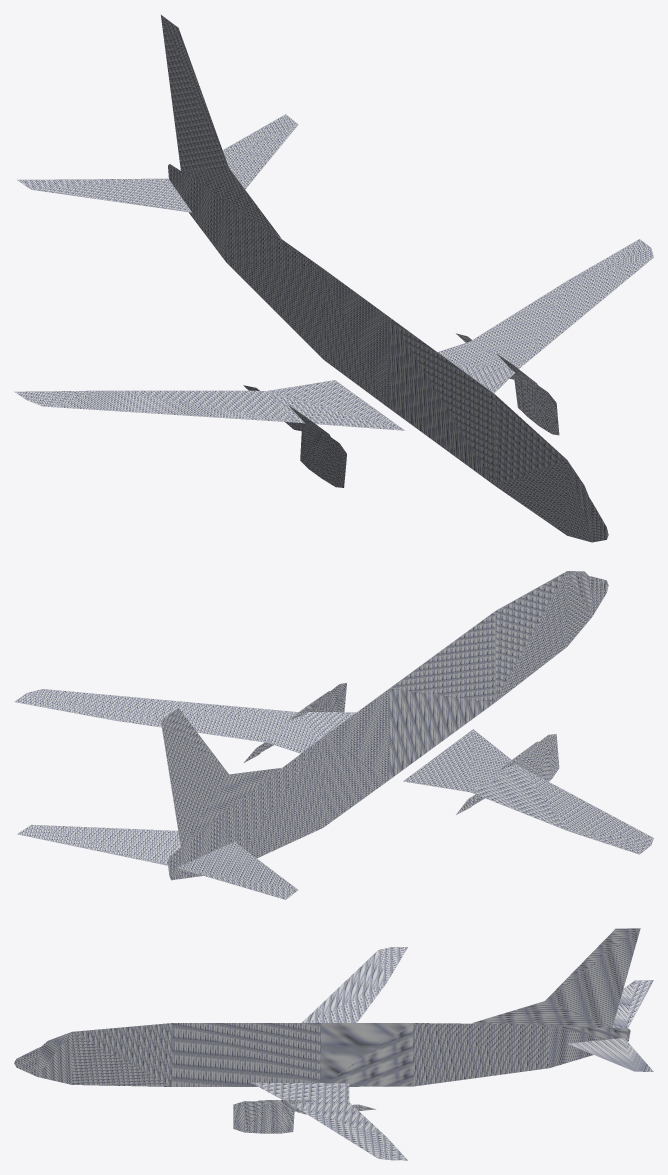
File: FAIB_B734FC_LOD4.gltf
3 views of the same model, one above another, from view 1: azimuth 30°, elevation 25°; view 2: azimuth 150°, elevation 25°; view 3: azimuth 270°, elevation 25° (orthographic). The views are drawn at different scales.
Parts seen in each view (by area): view 1: node9; view 2: node9; view 3: node9.
Part boxes in pixels (x1,y1,x2,y2): node9: [14, 15, 653, 542]; node9: [14, 571, 653, 899]; node9: [14, 928, 653, 1160].
Bounding box in the file's own units: 28.88 × 10.61 × 36.57.
